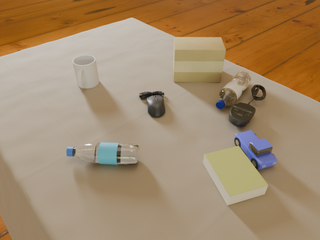book: (203, 146, 268, 205)
bottle: (67, 143, 139, 165), (216, 71, 251, 109)
box: (173, 37, 226, 82)
cup: (73, 55, 99, 88)
mouse: (139, 91, 165, 117), (229, 102, 256, 127)
toy_car: (235, 130, 277, 169)
